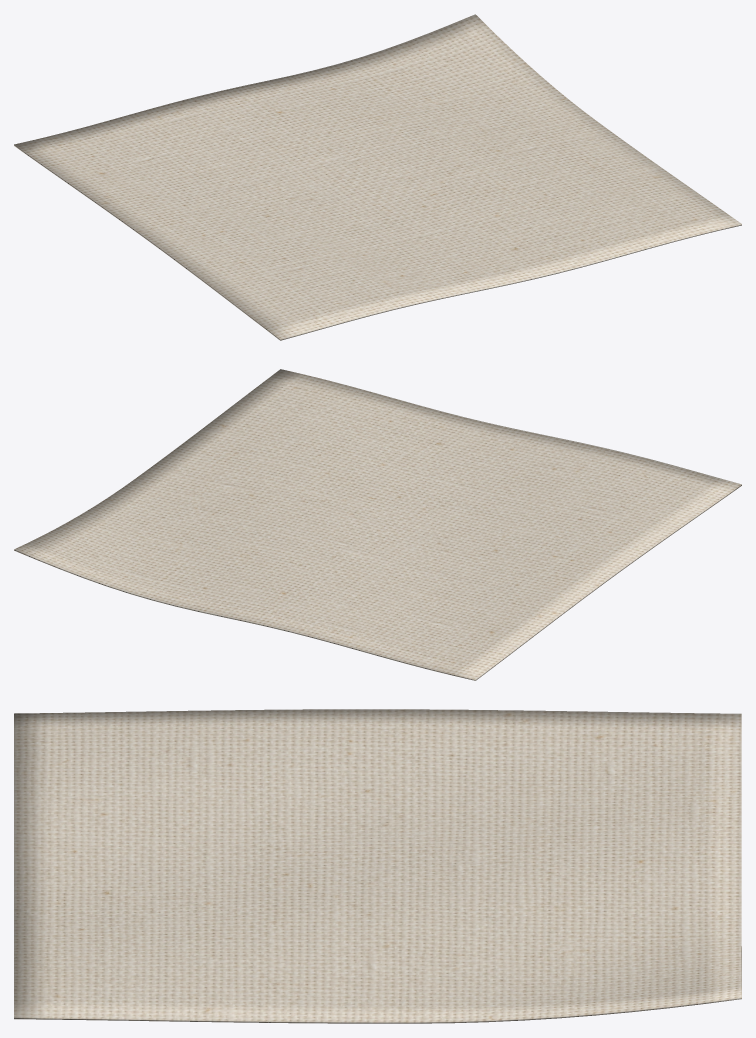
The picture shows the model from 3 angles, top to bottom: view 1: azimuth 30°, elevation 25°; view 2: azimuth 150°, elevation 25°; view 3: azimuth 270°, elevation 25°; orthographic projection. The views are drawn at different scales.
Visible parts, largest first — view 1: Cotton-Patch; view 2: Cotton-Patch; view 3: Cotton-Patch.
Boxes of the visible parts, bbox=[...] form: Cotton-Patch: bbox=[14, 14, 741, 340]; Cotton-Patch: bbox=[14, 369, 741, 680]; Cotton-Patch: bbox=[14, 709, 741, 1023].
Bounding box in the file's own units: 0.058 × 0.00234 × 0.058.
Materials: 1 (1 with a texture image).
